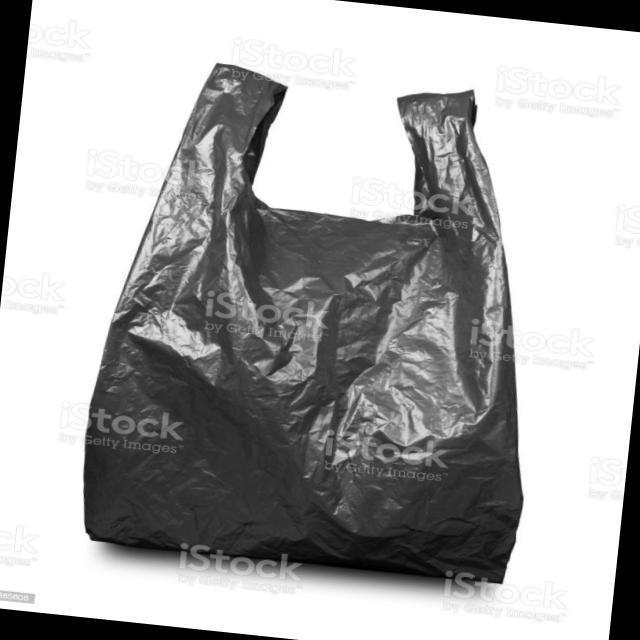KantongPlastik: (81, 60, 524, 584)
